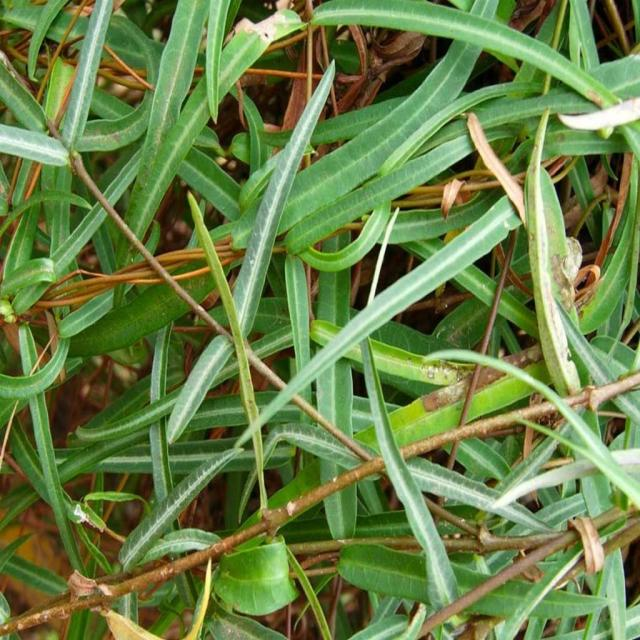Anantamul: (73, 24, 640, 496)
